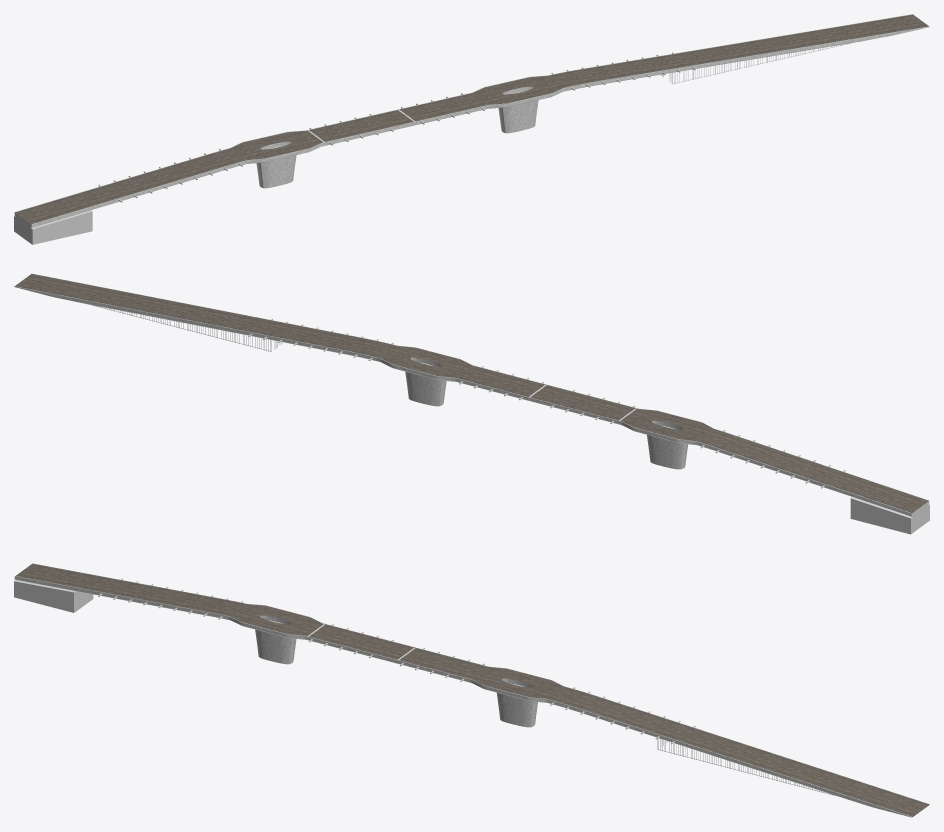
Rendered from SM_Ponte_Impalcato_LOD1.fbx.
3 renders of one model, top to bottom at view 1: azimuth 30°, elevation 25°; view 2: azimuth 150°, elevation 25°; view 3: azimuth 330°, elevation 25°, orthographic. The views are drawn at different scales.
Visible parts, largest first — view 1: SM_Ponte_Impalcato_LOD1; view 2: SM_Ponte_Impalcato_LOD1; view 3: SM_Ponte_Impalcato_LOD1.
Part boxes in pixels (x1,y1,x2,y2): SM_Ponte_Impalcato_LOD1: [14, 14, 929, 244]; SM_Ponte_Impalcato_LOD1: [14, 273, 929, 534]; SM_Ponte_Impalcato_LOD1: [14, 563, 929, 817].
Bounding box in the file's own units: 17900 × 1173 × 737.
3 materials, 2 textured.
